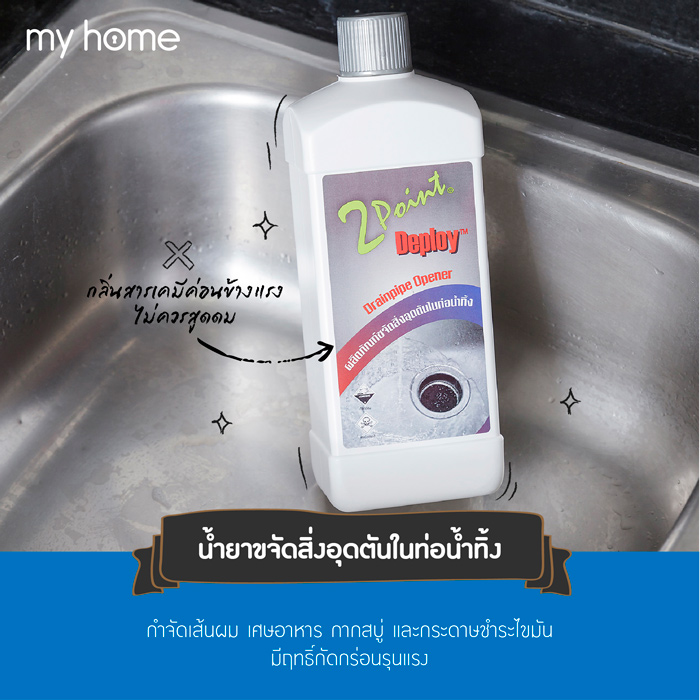Cleaning_solution: (281, 8, 518, 514)
